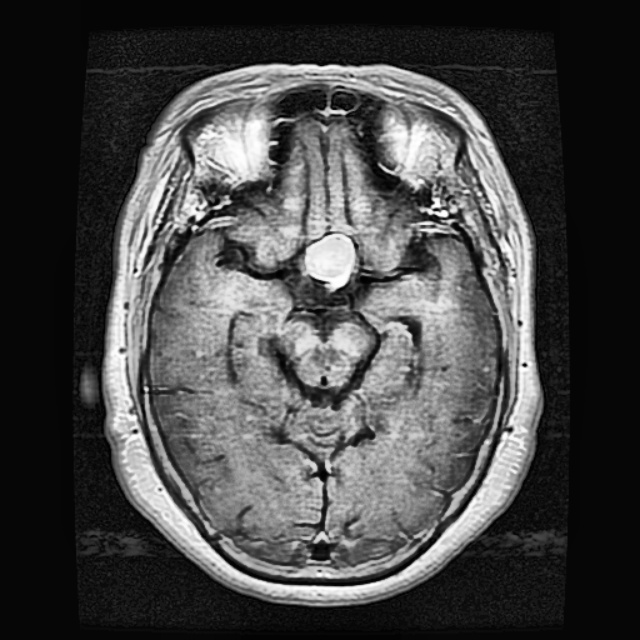Pituitary: (304, 233, 354, 284)
